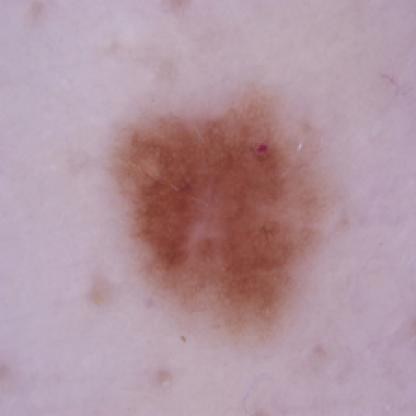benign: (119, 115, 340, 312)
